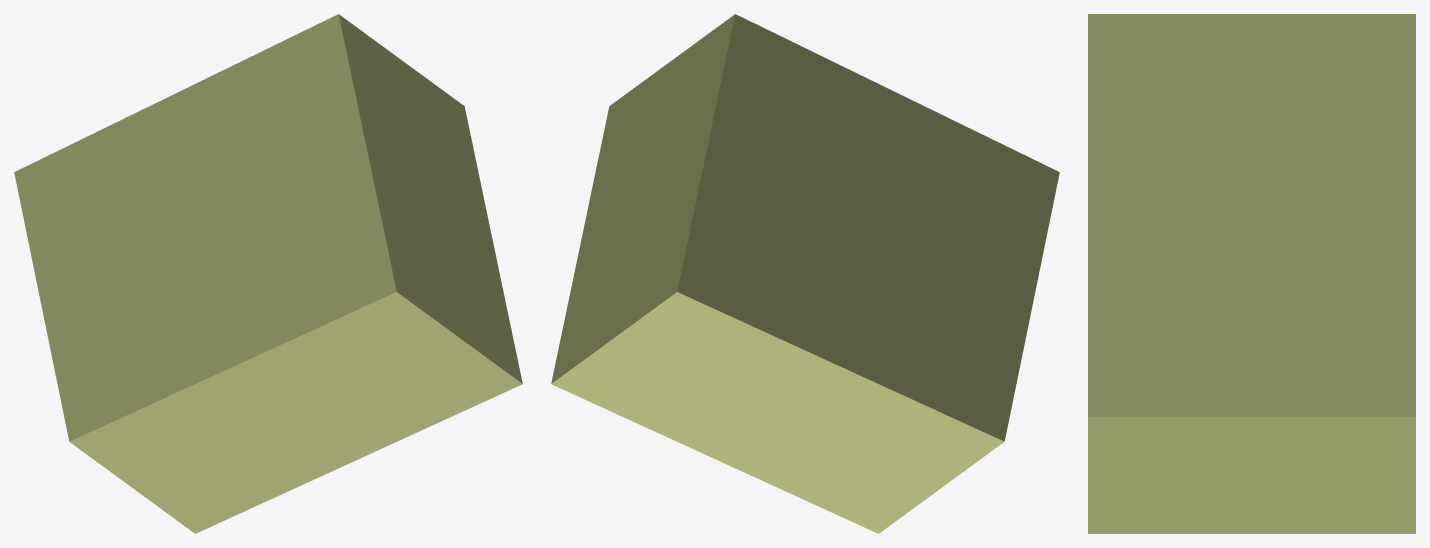
The picture shows the model from 3 angles, left to right: view 1: azimuth 30°, elevation 25°; view 2: azimuth 150°, elevation 25°; view 3: azimuth 270°, elevation 25°; orthographic projection. The views are drawn at different scales.
Parts seen in each view (by area): view 1: 0_1_0_2_0_1_3_0_3_3; view 2: 0_1_0_2_0_1_3_0_3_3; view 3: 0_1_0_2_0_1_3_0_3_3.
Part boxes in pixels (x1,y1,x2,y2): 0_1_0_2_0_1_3_0_3_3: (14, 14, 522, 533); 0_1_0_2_0_1_3_0_3_3: (551, 14, 1059, 533); 0_1_0_2_0_1_3_0_3_3: (1088, 14, 1415, 533).
Bounding box in the file's own units: 10.52 × 9.51 × 6.
